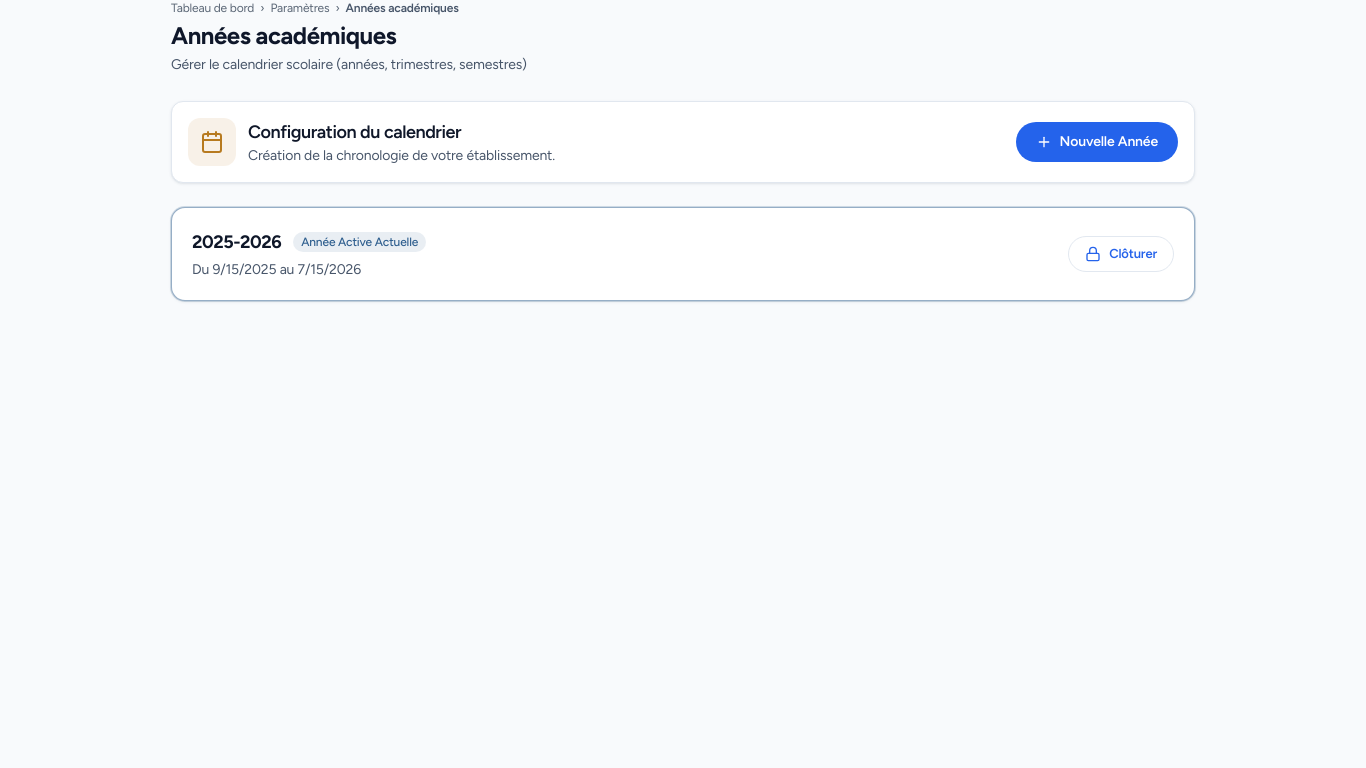
Page Années académiques › demande confirmation quand des élèves ne sont pas promus, puis clôture avec force
Click the button "Clôturer" at {"x": 1121, "y": 254}, box [1068, 236, 1174, 272]
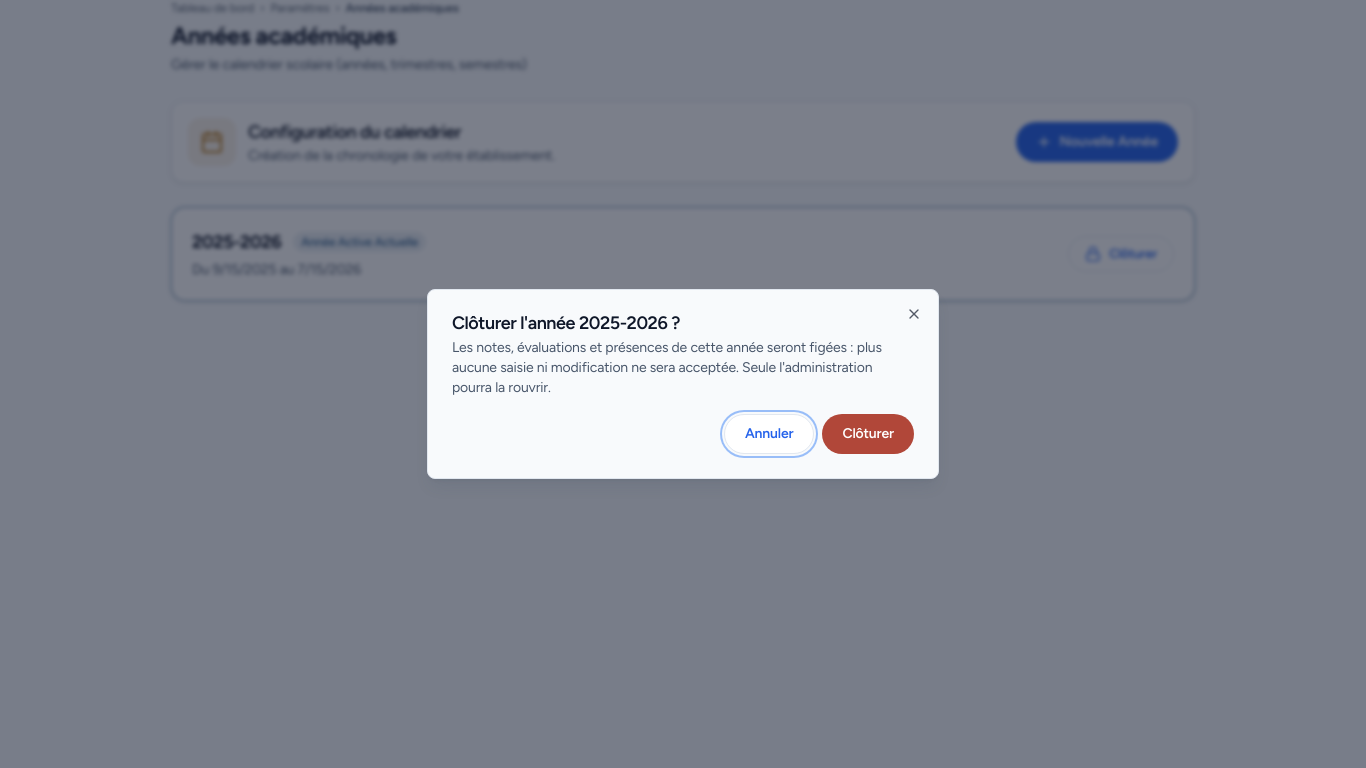
Click the button "Clôturer" at {"x": 868, "y": 434}, box [822, 414, 914, 454]
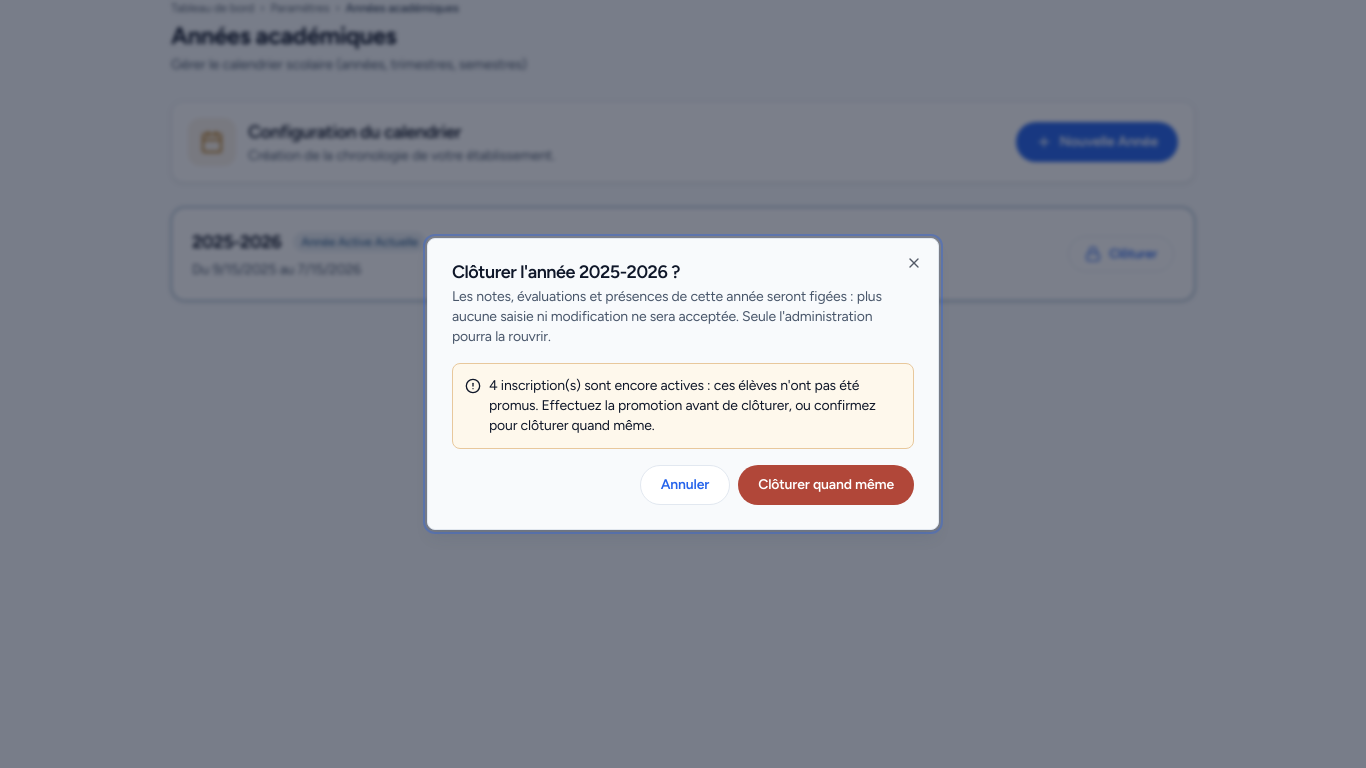
Check: the text "4 inscription(s) sont encore actives" is shown, box [489, 376, 901, 436]
Click the button "Clôturer quand même" at {"x": 826, "y": 485}, box [738, 465, 914, 505]
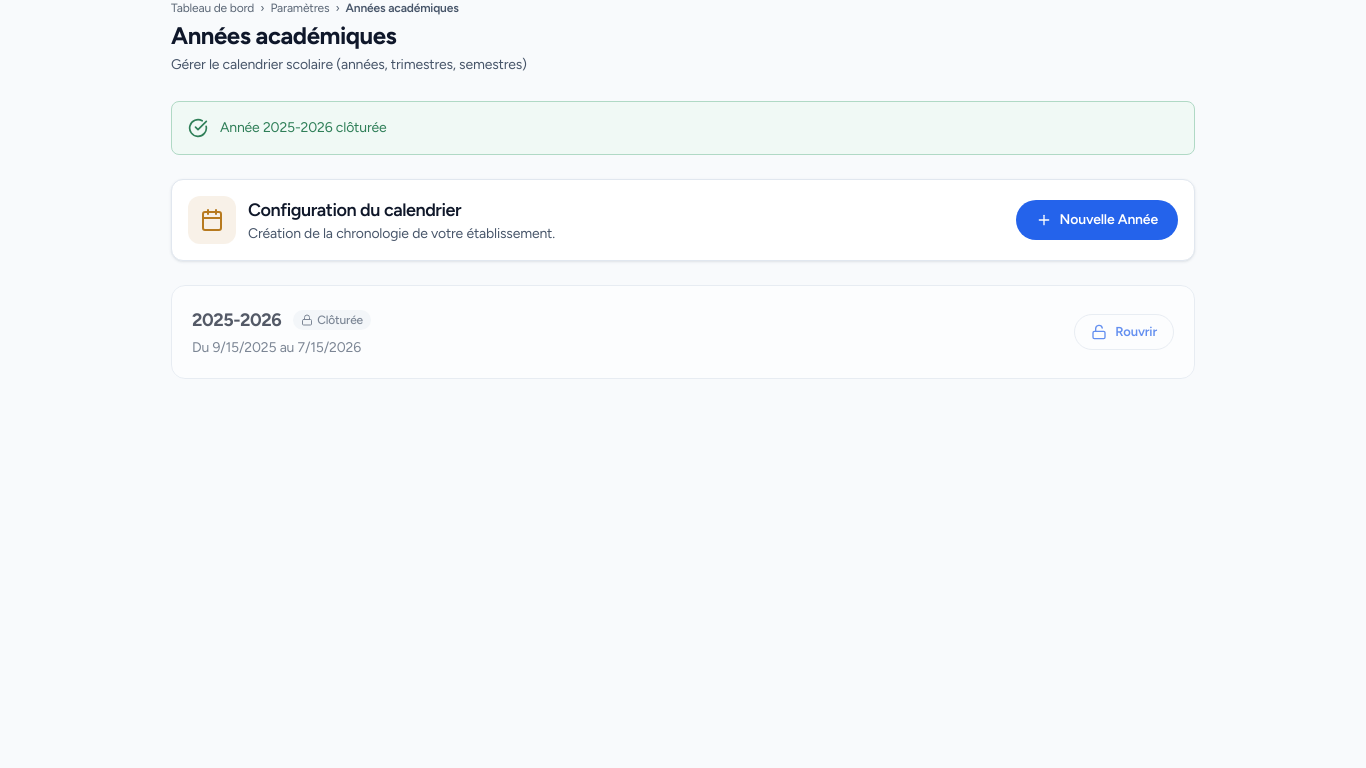
Check: the text "Année 2025-2026 clôturée" is shown, box [220, 118, 386, 138]
